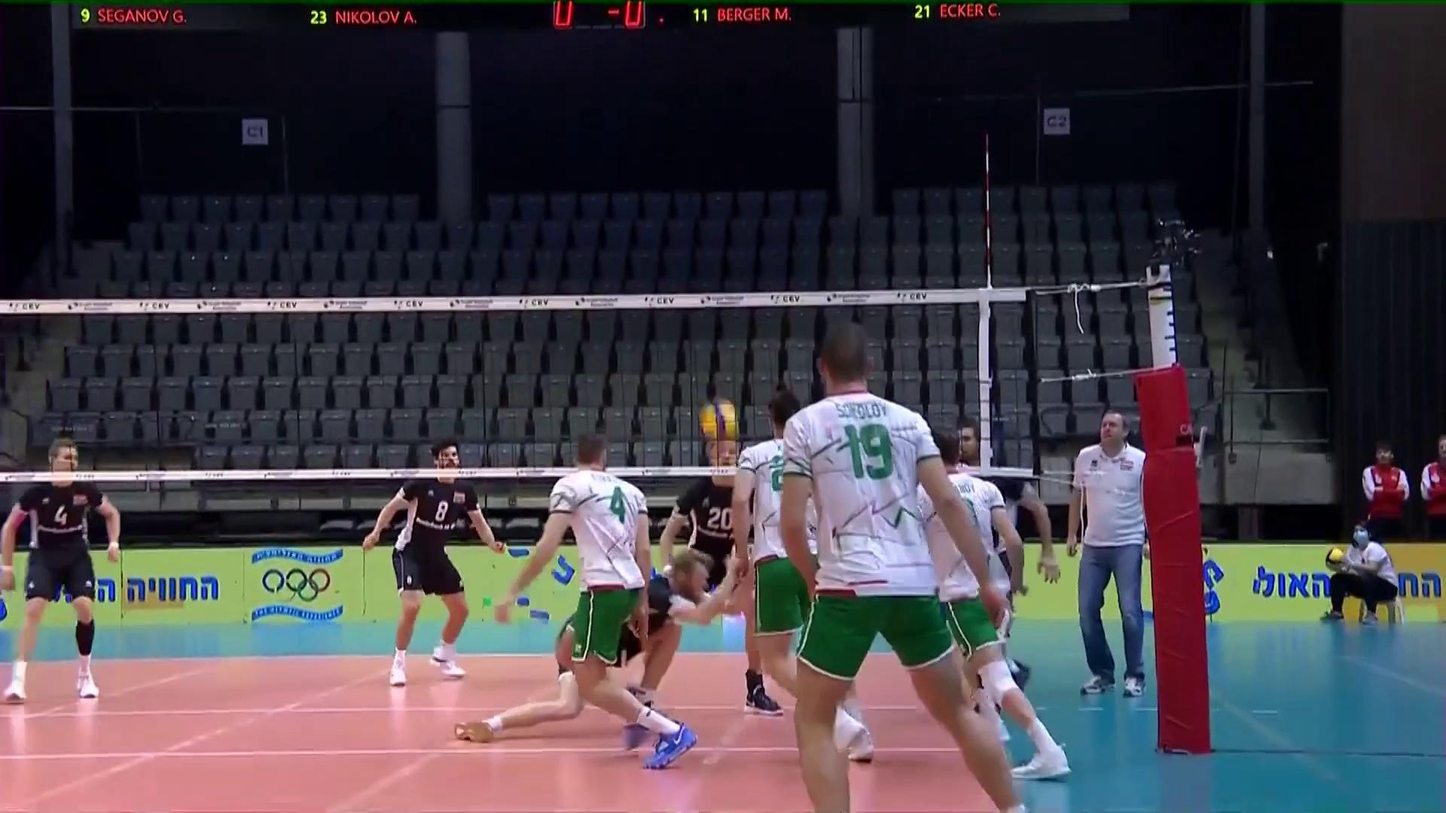ball: (695, 397, 745, 440)
